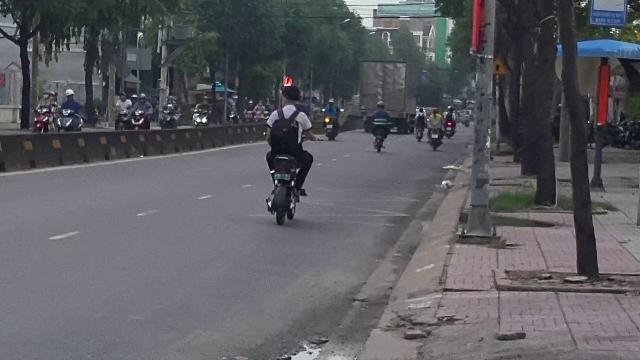motorcyclist: (262, 82, 314, 224)
nohelmet: (278, 82, 300, 106)
